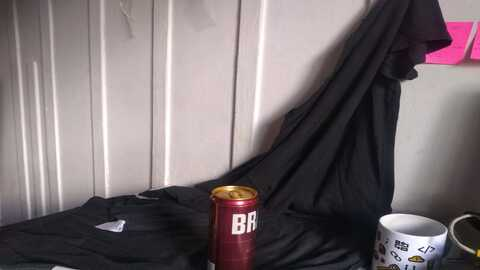duplo_malte: (206, 187, 260, 270)
